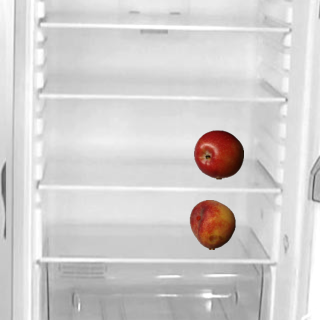Apple Braeburn: (193, 129, 243, 179)
Peach: (187, 199, 237, 249)
